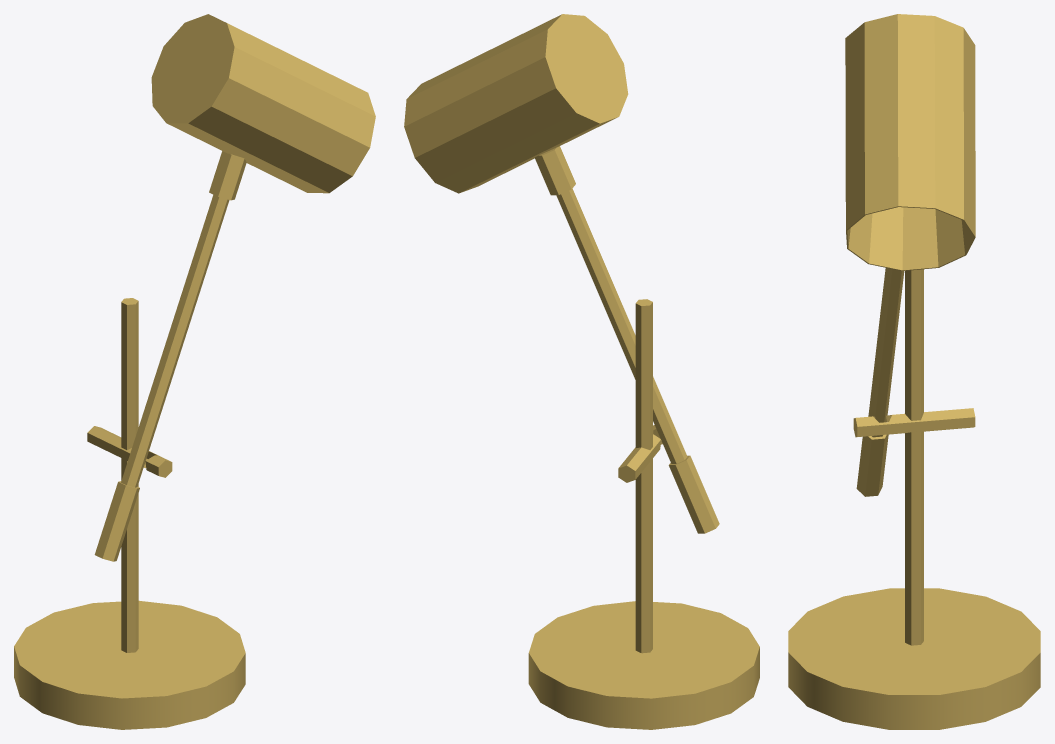
File: deskLamp.fbx
3 views of the same model, side by side, from view 1: azimuth 30°, elevation 25°; view 2: azimuth 150°, elevation 25°; view 3: azimuth 270°, elevation 25° (orthographic). The views are drawn at different scales.
Parts seen in each view (by area): view 1: deskLamp; view 2: deskLamp; view 3: deskLamp.
Boxes of the visible parts, bbox=[...] form: deskLamp: bbox=[14, 14, 375, 729]; deskLamp: bbox=[404, 14, 759, 729]; deskLamp: bbox=[788, 14, 1040, 729].
Size of the model in its own units: 68.42 by 127 by 40.95.
